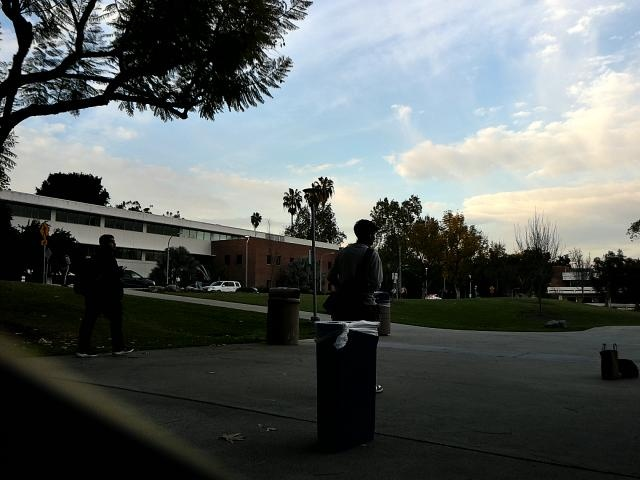trashcan_open: (313, 319, 379, 445)
